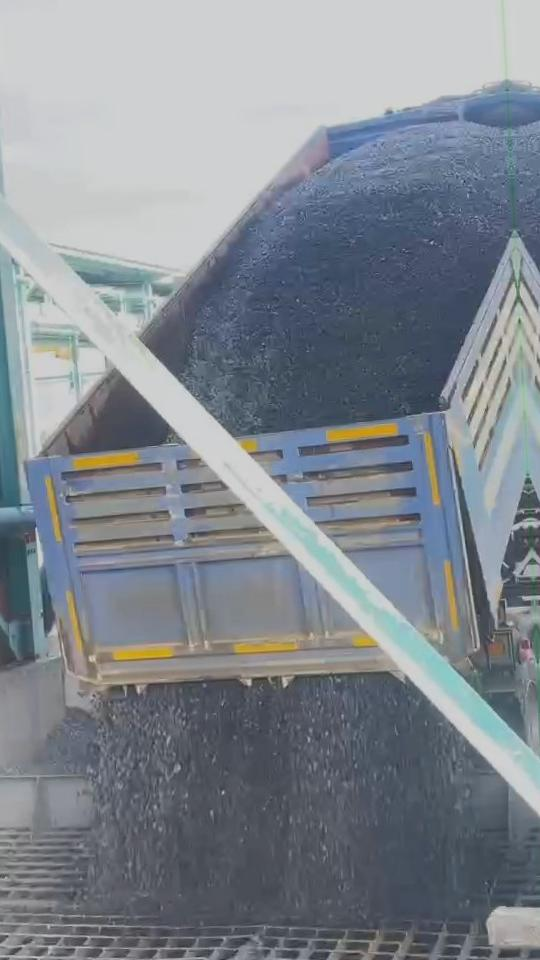gravel: (179, 123, 511, 433), (91, 676, 483, 924), (0, 711, 98, 775)
